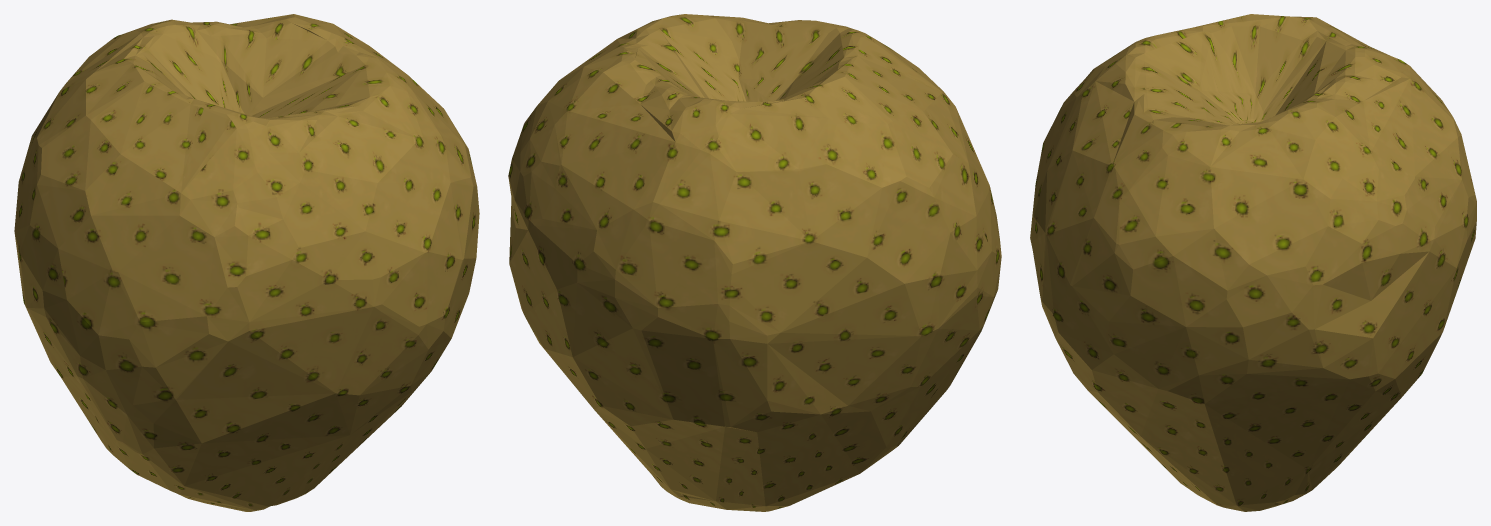
The picture shows the model from 3 angles, left to right: view 1: azimuth 30°, elevation 25°; view 2: azimuth 150°, elevation 25°; view 3: azimuth 270°, elevation 25°; orthographic projection. The views are drawn at different scales.
Parts seen in each view (by area): view 1: _000_Meshed; view 2: _000_Meshed; view 3: _000_Meshed.
Part boxes in pixels (x1,y1,x2,y2): _000_Meshed: (14,14,479,511); _000_Meshed: (508,14,1001,511); _000_Meshed: (1030,14,1476,511).
Size of the model in its own units: 0.1127 by 0.1067 by 0.1146.
1 material, 1 textured.
